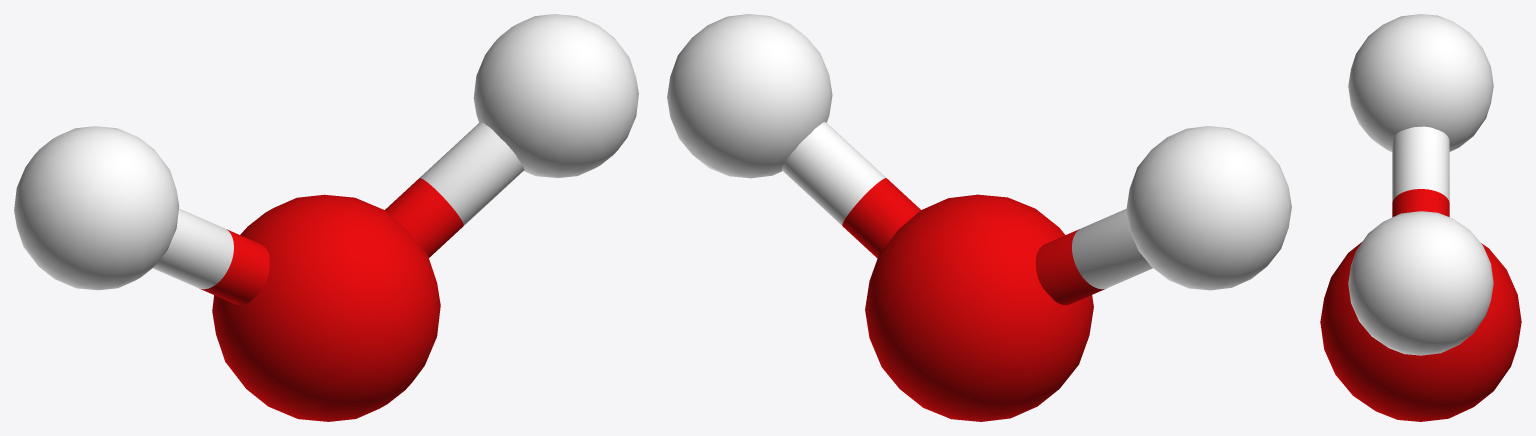
3 renders of one model, left to right at view 1: azimuth 30°, elevation 25°; view 2: azimuth 150°, elevation 25°; view 3: azimuth 270°, elevation 25°, orthographic. The views are drawn at different scales.
Parts seen in each view (by area): view 1: Shape_IndexedFaceSet_2, Shape_IndexedFaceSet.002_4, Shape_IndexedFaceSet.001_3, Shape_IndexedFaceSet.006_8, Shape_IndexedFaceSet.004_6, Shape_IndexedFaceSet.005_7, Shape_IndexedFaceSet.003_5; view 2: Shape_IndexedFaceSet_2, Shape_IndexedFaceSet.002_4, Shape_IndexedFaceSet.001_3, Shape_IndexedFaceSet.006_8, Shape_IndexedFaceSet.004_6, Shape_IndexedFaceSet.005_7, Shape_IndexedFaceSet.003_5; view 3: Shape_IndexedFaceSet.001_3, Shape_IndexedFaceSet_2, Shape_IndexedFaceSet.002_4, Shape_IndexedFaceSet.004_6, Shape_IndexedFaceSet.003_5.
Boxes of the visible parts, x1,y1,x2,y2 form: Shape_IndexedFaceSet_2: [212, 194, 440, 421]; Shape_IndexedFaceSet.002_4: [14, 126, 179, 290]; Shape_IndexedFaceSet.001_3: [473, 14, 638, 178]; Shape_IndexedFaceSet.006_8: [420, 122, 524, 225]; Shape_IndexedFaceSet.004_6: [153, 208, 233, 289]; Shape_IndexedFaceSet.005_7: [385, 178, 463, 257]; Shape_IndexedFaceSet.003_5: [199, 229, 269, 304]; Shape_IndexedFaceSet_2: [865, 194, 1093, 421]; Shape_IndexedFaceSet.002_4: [1126, 126, 1291, 290]; Shape_IndexedFaceSet.001_3: [667, 14, 832, 178]; Shape_IndexedFaceSet.006_8: [782, 122, 885, 225]; Shape_IndexedFaceSet.004_6: [1072, 208, 1152, 289]; Shape_IndexedFaceSet.005_7: [842, 178, 920, 258]; Shape_IndexedFaceSet.003_5: [1035, 229, 1104, 304]; Shape_IndexedFaceSet.001_3: [1348, 211, 1493, 355]; Shape_IndexedFaceSet_2: [1320, 242, 1521, 421]; Shape_IndexedFaceSet.002_4: [1348, 14, 1493, 151]; Shape_IndexedFaceSet.004_6: [1392, 126, 1449, 201]; Shape_IndexedFaceSet.003_5: [1392, 189, 1449, 217].
Size of the model in its own units: 1.85 by 0.98 by 0.6073.
